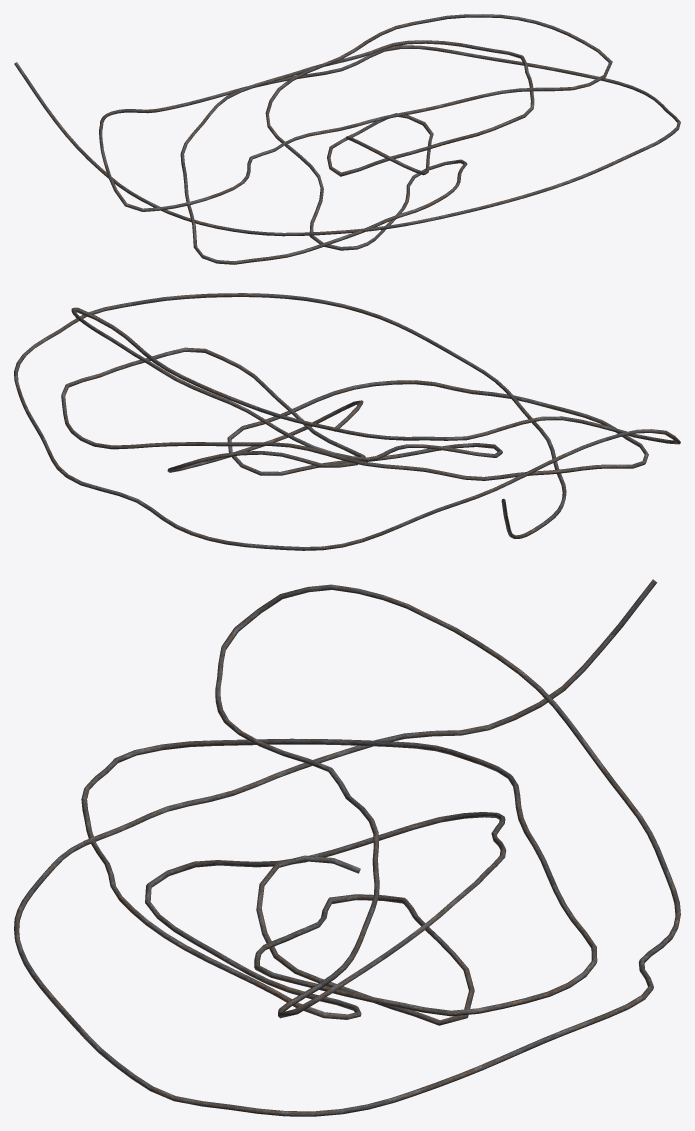
The model's file is MOD_DebrisWires_D.fbx.
3 views of the same model, one above another, from view 1: azimuth 30°, elevation 25°; view 2: azimuth 150°, elevation 25°; view 3: azimuth 270°, elevation 25° (orthographic). The views are drawn at different scales.
Visible parts, largest first — view 1: MOD_DebrisWires_D; view 2: MOD_DebrisWires_D; view 3: MOD_DebrisWires_D.
Part boxes in pixels (x1,y1,x2,y2): MOD_DebrisWires_D: (14, 14, 680, 264); MOD_DebrisWires_D: (14, 293, 680, 550); MOD_DebrisWires_D: (14, 579, 680, 1116).
Bounding box in the file's own units: 82.75 × 17.86 × 54.53.
1 material, 1 textured.
